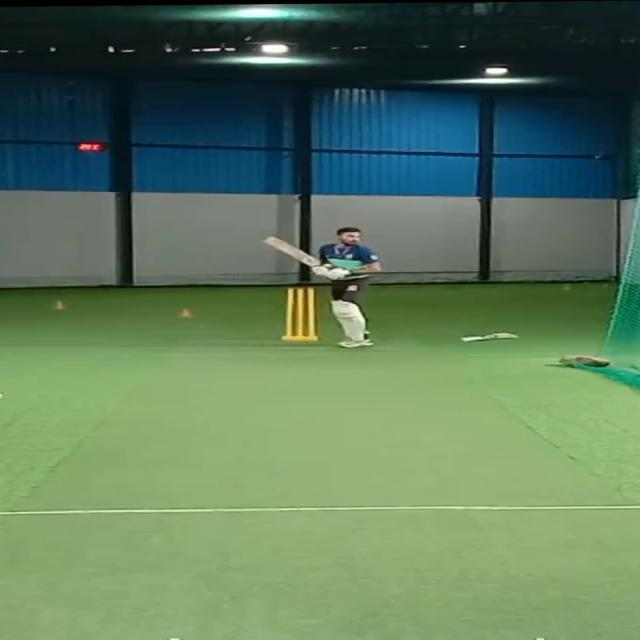stump: (275, 287, 320, 341)
